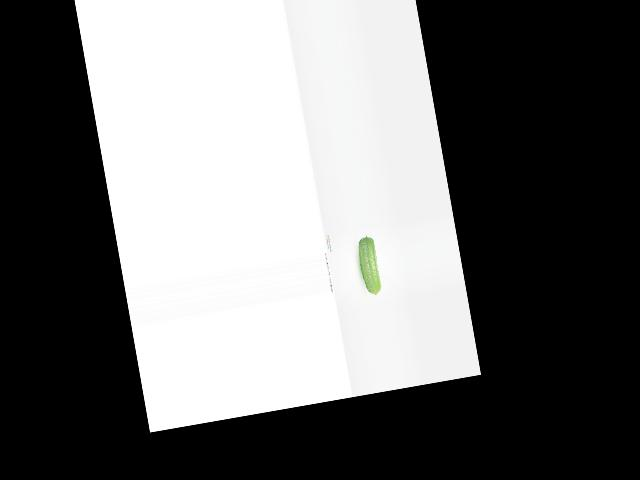cucumber: (355, 234, 383, 297)
